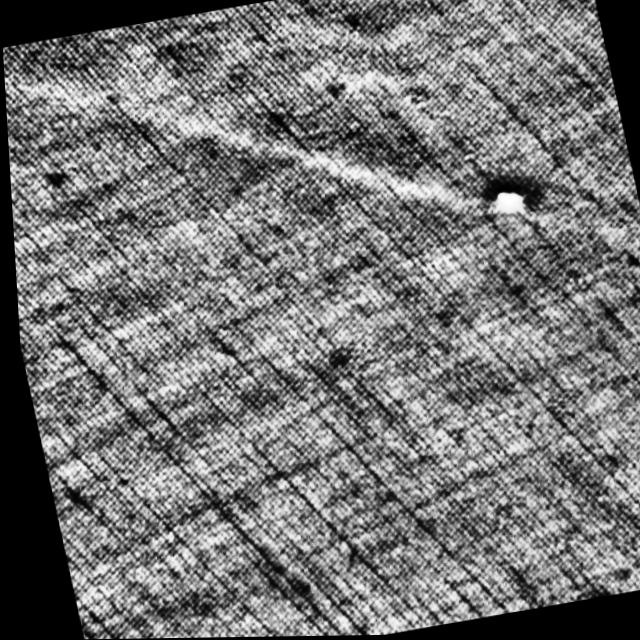Hole: (485, 184, 532, 217)
